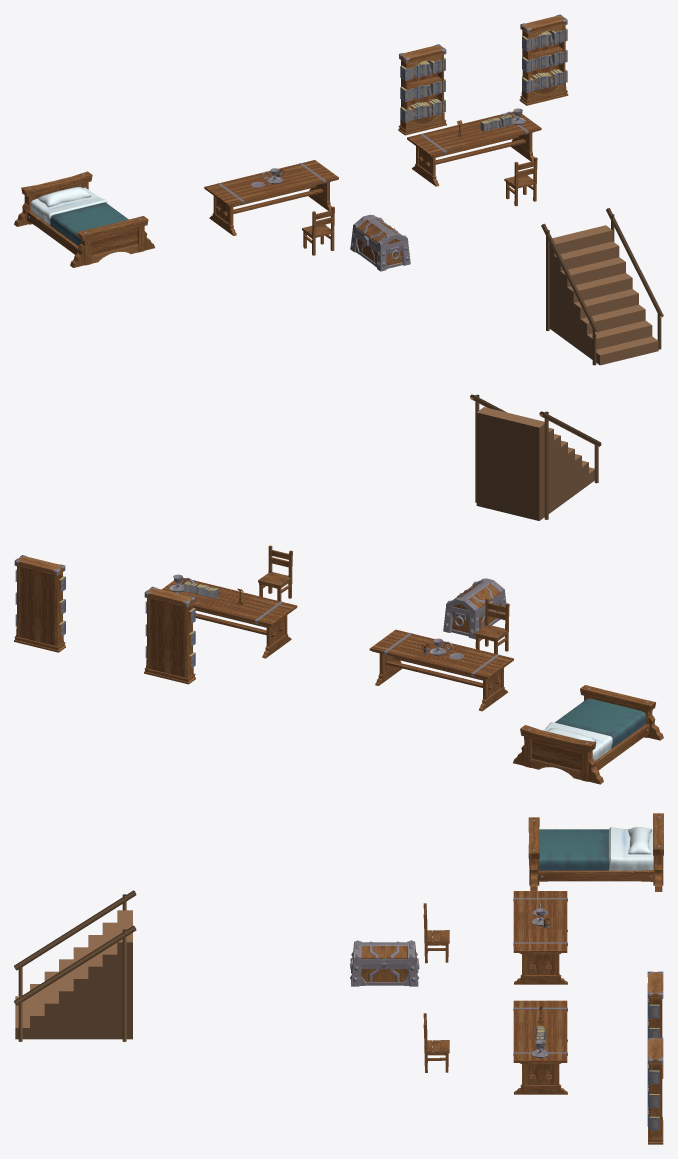
Rendered from realm_moonwillow_24_upper.gltf.
3 renders of one model, top to bottom at view 1: azimuth 30°, elevation 25°; view 2: azimuth 150°, elevation 25°; view 3: azimuth 270°, elevation 25°, orthographic. The views are drawn at different scales.
Parts seen in each view (by area): view 1: 82100af1b928c00468f69366df486273076c34d42de27ff785a86b896db8, f4b04e3619cf212187b96076e7e940da50275113f8897ecbcd59f5921342 (×2), c2df40a66453636f63457faec436195ffd3d73cde0dcddf7486ad93257fe, cb9df46869a74c2b21acdc562e58e1fd0bcaa177f7275e87e50e477c73f4 (×2), f52aa0036ce251ef1eb08d3699186b9705c3883af59782ac743cf0836182 (×6), 974a21d8ae8e0859926ffd9e6f304d80a7c46e7e5ee3150935a76e128408, ddcc3d6e1ffba2575a9ad5c6e02f5f299d918638f3e83151b75ace5729ff (×2); view 2: 82100af1b928c00468f69366df486273076c34d42de27ff785a86b896db8, f4b04e3619cf212187b96076e7e940da50275113f8897ecbcd59f5921342 (×2), cb9df46869a74c2b21acdc562e58e1fd0bcaa177f7275e87e50e477c73f4 (×2), c2df40a66453636f63457faec436195ffd3d73cde0dcddf7486ad93257fe, 974a21d8ae8e0859926ffd9e6f304d80a7c46e7e5ee3150935a76e128408, ddcc3d6e1ffba2575a9ad5c6e02f5f299d918638f3e83151b75ace5729ff (×2); view 3: 82100af1b928c00468f69366df486273076c34d42de27ff785a86b896db8, f4b04e3619cf212187b96076e7e940da50275113f8897ecbcd59f5921342 (×2), c2df40a66453636f63457faec436195ffd3d73cde0dcddf7486ad93257fe, 974a21d8ae8e0859926ffd9e6f304d80a7c46e7e5ee3150935a76e128408, cb9df46869a74c2b21acdc562e58e1fd0bcaa177f7275e87e50e477c73f4 (×2), ddcc3d6e1ffba2575a9ad5c6e02f5f299d918638f3e83151b75ace5729ff (×2).
Boxes of the visible parts, box(x1,y1,x2,y2) form: 82100af1b928c00468f69366df486273076c34d42de27ff785a86b896db8: box(541, 208, 663, 365); f4b04e3619cf212187b96076e7e940da50275113f8897ecbcd59f5921342 (×2): box(204, 111, 541, 235); c2df40a66453636f63457faec436195ffd3d73cde0dcddf7486ad93257fe: box(14, 171, 155, 267); cb9df46869a74c2b21acdc562e58e1fd0bcaa177f7275e87e50e477c73f4 (×2): box(398, 14, 568, 135); f52aa0036ce251ef1eb08d3699186b9705c3883af59782ac743cf0836182 (×6): box(400, 28, 567, 122); 974a21d8ae8e0859926ffd9e6f304d80a7c46e7e5ee3150935a76e128408: box(350, 214, 410, 271); ddcc3d6e1ffba2575a9ad5c6e02f5f299d918638f3e83151b75ace5729ff (×2): box(302, 157, 537, 255); 82100af1b928c00468f69366df486273076c34d42de27ff785a86b896db8: box(470, 394, 601, 520); f4b04e3619cf212187b96076e7e940da50275113f8897ecbcd59f5921342 (×2): box(162, 577, 513, 711); cb9df46869a74c2b21acdc562e58e1fd0bcaa177f7275e87e50e477c73f4 (×2): box(14, 555, 195, 684); c2df40a66453636f63457faec436195ffd3d73cde0dcddf7486ad93257fe: box(513, 685, 663, 784); 974a21d8ae8e0859926ffd9e6f304d80a7c46e7e5ee3150935a76e128408: box(443, 578, 506, 639); ddcc3d6e1ffba2575a9ad5c6e02f5f299d918638f3e83151b75ace5729ff (×2): box(258, 545, 509, 654); 82100af1b928c00468f69366df486273076c34d42de27ff785a86b896db8: box(14, 890, 136, 1041); f4b04e3619cf212187b96076e7e940da50275113f8897ecbcd59f5921342 (×2): box(513, 891, 567, 1094); c2df40a66453636f63457faec436195ffd3d73cde0dcddf7486ad93257fe: box(528, 813, 663, 891); 974a21d8ae8e0859926ffd9e6f304d80a7c46e7e5ee3150935a76e128408: box(350, 940, 419, 986); cb9df46869a74c2b21acdc562e58e1fd0bcaa177f7275e87e50e477c73f4 (×2): box(647, 971, 663, 1144); ddcc3d6e1ffba2575a9ad5c6e02f5f299d918638f3e83151b75ace5729ff (×2): box(423, 903, 449, 1072).
Size of the model in its own units: 13.53 by 2.44 by 12.5.
Materials: 18 (17 with a texture image).
